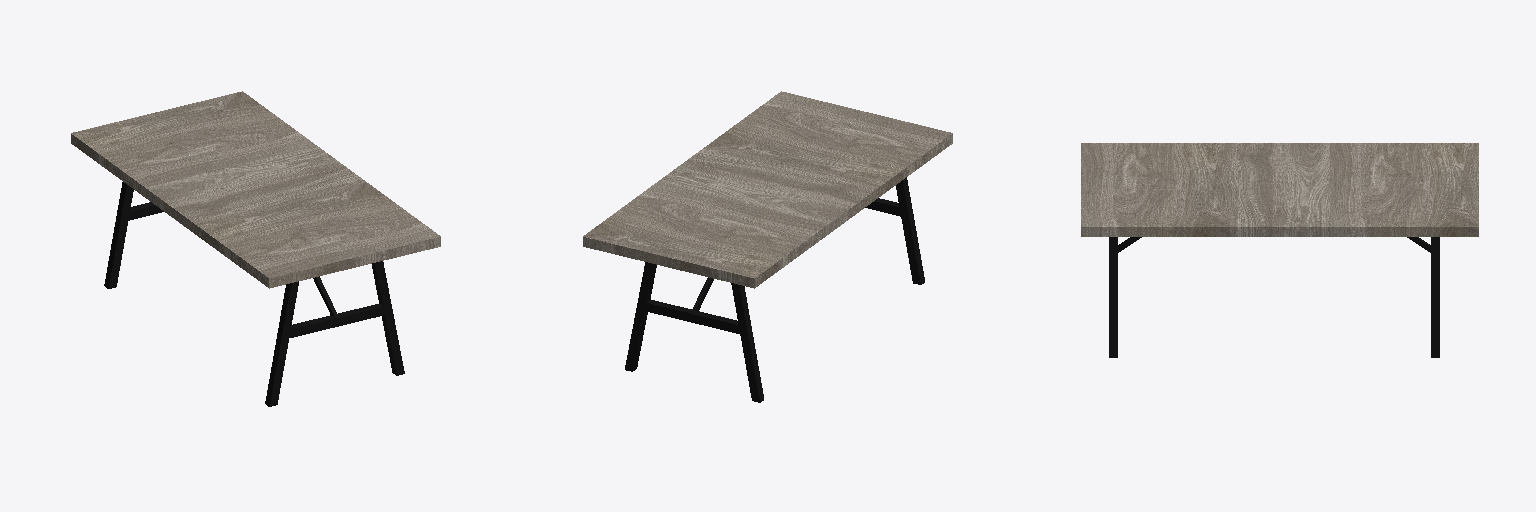
3 renders of one model, left to right at view 1: azimuth 30°, elevation 25°; view 2: azimuth 150°, elevation 25°; view 3: azimuth 270°, elevation 25°, orthographic.
Parts seen in each view (by area): view 1: Mesh3 Group6 Composant_2_1 Table___d_ner_KEY_WEST__Maisons_du_mo, Mesh2 Group5 Group4 Group1 Model, Mesh1 Group3 Group2 Group1 Model; view 2: Mesh3 Group6 Composant_2_1 Table___d_ner_KEY_WEST__Maisons_du_mo, Mesh1 Group3 Group2 Group1 Model, Mesh2 Group5 Group4 Group1 Model; view 3: Mesh3 Group6 Composant_2_1 Table___d_ner_KEY_WEST__Maisons_du_mo, Mesh1 Group3 Group2 Group1 Model, Mesh2 Group5 Group4 Group1 Model.
Boxes of the visible parts, x1,y1,x2,y2 form: Mesh3 Group6 Composant_2_1 Table___d_ner_KEY_WEST__Maisons_du_mo: [71, 91, 440, 288]; Mesh2 Group5 Group4 Group1 Model: [265, 261, 404, 406]; Mesh1 Group3 Group2 Group1 Model: [104, 182, 163, 288]; Mesh3 Group6 Composant_2_1 Table___d_ner_KEY_WEST__Maisons_du_mo: [583, 91, 952, 288]; Mesh1 Group3 Group2 Group1 Model: [625, 262, 763, 402]; Mesh2 Group5 Group4 Group1 Model: [865, 177, 924, 284]; Mesh3 Group6 Composant_2_1 Table___d_ner_KEY_WEST__Maisons_du_mo: [1081, 143, 1478, 236]; Mesh1 Group3 Group2 Group1 Model: [1407, 237, 1439, 357]; Mesh2 Group5 Group4 Group1 Model: [1109, 237, 1141, 357].
Size of the model in its own units: 1 by 0.79 by 2.
Materials: 2 (1 with a texture image).